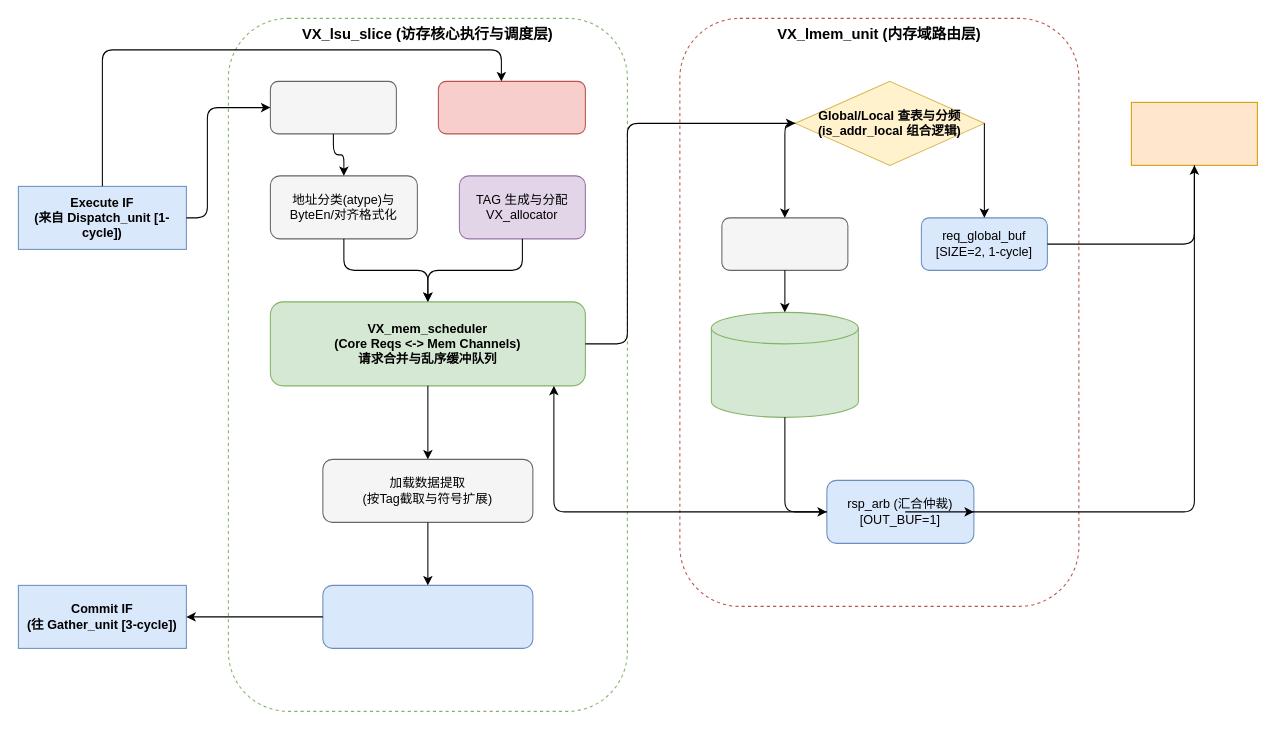
Image size: 1276x730. Some labels were removed from this diagram. The shapes that lost their labels are listed below. From the top down, each one's centre as x and y in pixels, then its label:
At (x=332, y=107): "AGU 地址计算 (rs1 + offset)".
At (x=511, y=107): "Fence Lock逻辑 (检测no_pending_req)".
At (x=1193, y=133): "L1 D-Cache IF (Global/IO Memory)".
At (x=784, y=243): "req_local_buf [SIZE=0, 组合]".
At (x=784, y=364): "VX_local_mem (Shared Memory SRAM) [OUT_BUF=3]".
At (x=427, y=616): "rsp_buf (Elastic Buffer) [SIZE=2, 1-cycle]".
